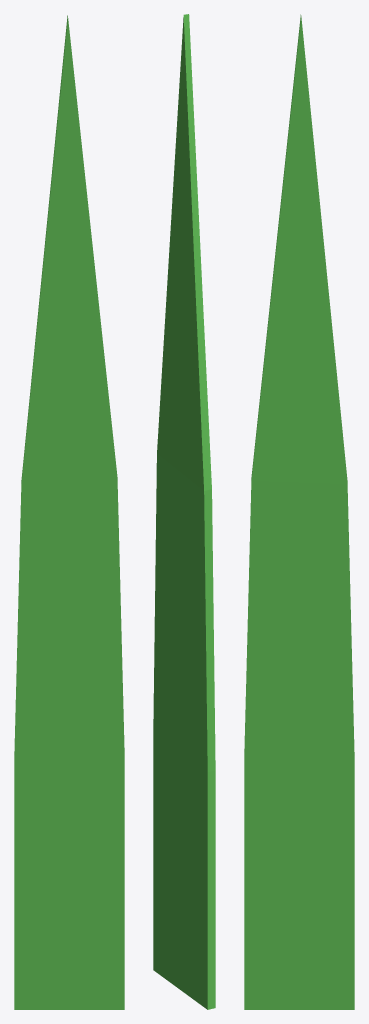
File: grass2.fbx
3 views of the same model, side by side, from view 1: azimuth 90°, elevation 25°; view 2: azimuth 210°, elevation 25°; view 3: azimuth 270°, elevation 25° (orthographic).
Parts seen in each view (by area): view 1: Plane; view 2: Plane; view 3: Plane.
Boxes of the visible parts, box(x1,y1,x2,y2) form: Plane: box(14, 15, 124, 1009); Plane: box(153, 14, 215, 1009); Plane: box(244, 14, 354, 1009).
Bounding box in the file's own units: 2.36 × 278 × 28.08.
